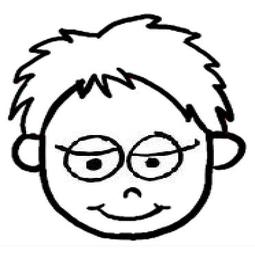ear: (208, 130, 251, 174), (4, 132, 46, 174)
eye: (126, 124, 201, 182), (48, 129, 128, 183)
mouth: (80, 199, 175, 223)
nose: (111, 184, 147, 203)
